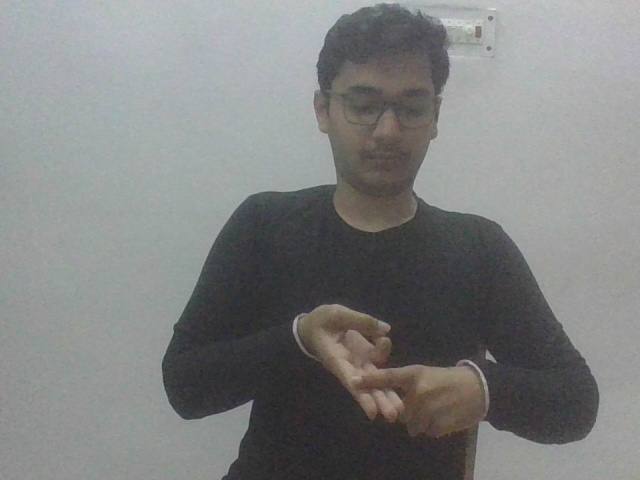E: (291, 299, 490, 442)
